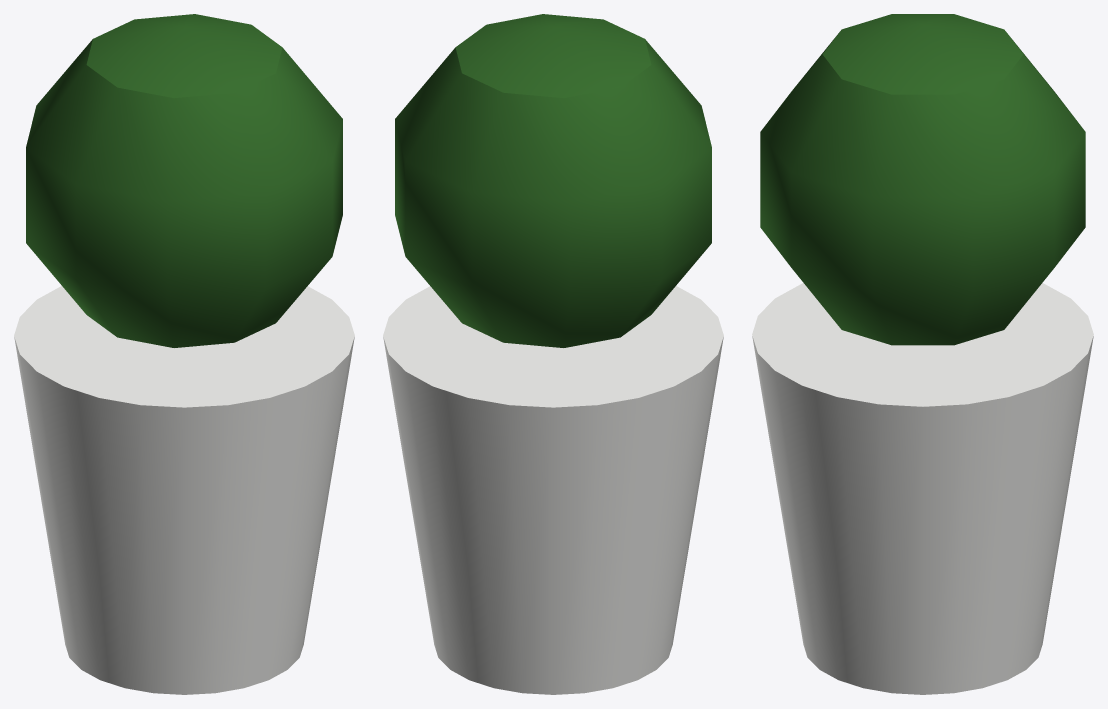
File: office.planter.round.glb
The picture shows the model from 3 angles, left to right: view 1: azimuth 30°, elevation 25°; view 2: azimuth 150°, elevation 25°; view 3: azimuth 270°, elevation 25°; orthographic projection.
Visible parts, largest first — view 1: main__ceramic, main__foliage; view 2: main__ceramic, main__foliage; view 3: main__ceramic, main__foliage.
Boxes of the visible parts, bbox=[...] form: main__ceramic: bbox=[14, 286, 354, 694]; main__foliage: bbox=[26, 14, 342, 347]; main__ceramic: bbox=[383, 286, 723, 694]; main__foliage: bbox=[395, 14, 711, 347]; main__ceramic: bbox=[752, 283, 1093, 694]; main__foliage: bbox=[760, 14, 1085, 345].
Size of the model in its own units: 0.5 by 1 by 0.5.
